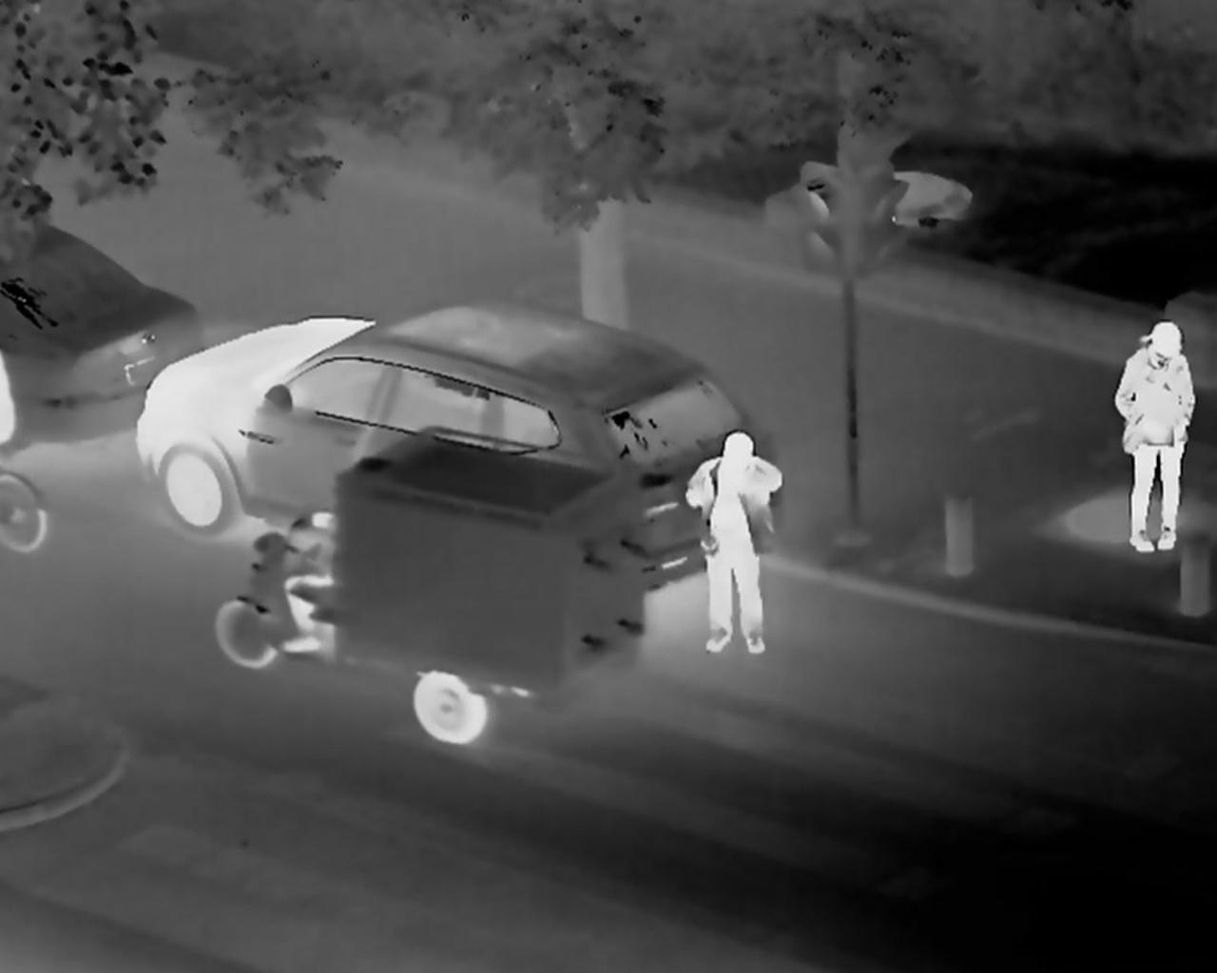person: (649, 434, 798, 658), (1111, 292, 1213, 579)
